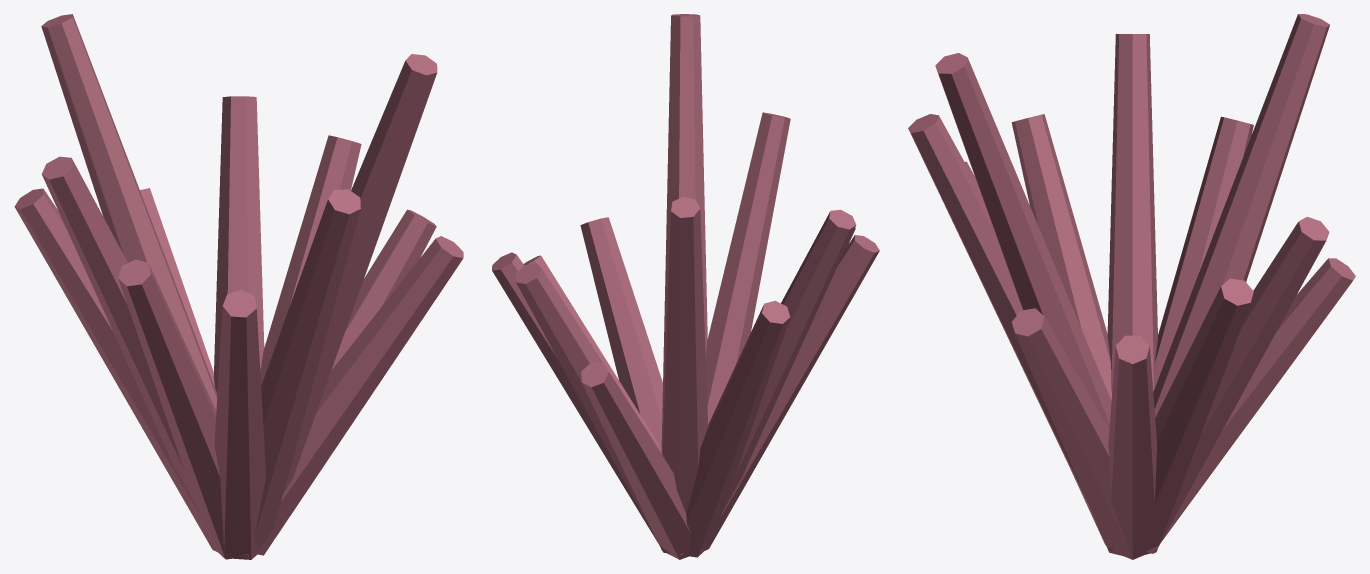
Rendered from nature-anemone.lod0.glb.
3 renders of one model, left to right at view 1: azimuth 30°, elevation 25°; view 2: azimuth 150°, elevation 25°; view 3: azimuth 270°, elevation 25°, orthographic. The views are drawn at different scales.
Parts seen in each view (by area): view 1: nature-anemone__body; view 2: nature-anemone__body; view 3: nature-anemone__body.
Part boxes in pixels (x1=…): nature-anemone__body: x1=14, y1=14, x2=463, y2=559; nature-anemone__body: x1=492, y1=14, x2=879, y2=559; nature-anemone__body: x1=908, y1=14, x2=1355, y2=559.
Size of the model in its own units: 0.641 by 0.8455 by 0.6419.
